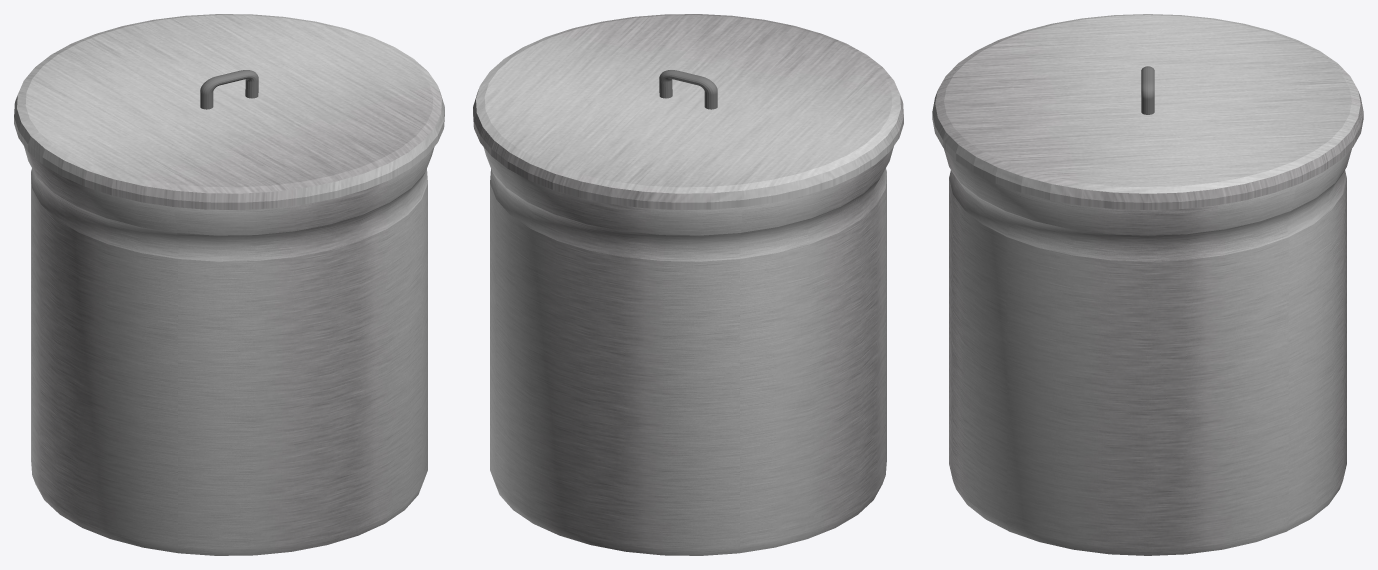
The model's file is Кастрюля.fbx.
3 views of the same model, side by side, from view 1: azimuth 30°, elevation 25°; view 2: azimuth 150°, elevation 25°; view 3: azimuth 270°, elevation 25° (orthographic).
Parts seen in each view (by area): view 1: Pen, Cap; view 2: Pen, Cap; view 3: Pen, Cap.
Part boxes in pixels (x1,y1,x2,y2): Pen: [24, 146, 434, 555]; Cap: [14, 14, 444, 209]; Pen: [483, 146, 893, 555]; Cap: [473, 14, 903, 209]; Pen: [944, 149, 1351, 555]; Cap: [932, 14, 1363, 210].
Size of the model in its own units: 32.53 by 33.44 by 32.53.
Materials: 2 (1 with a texture image).
